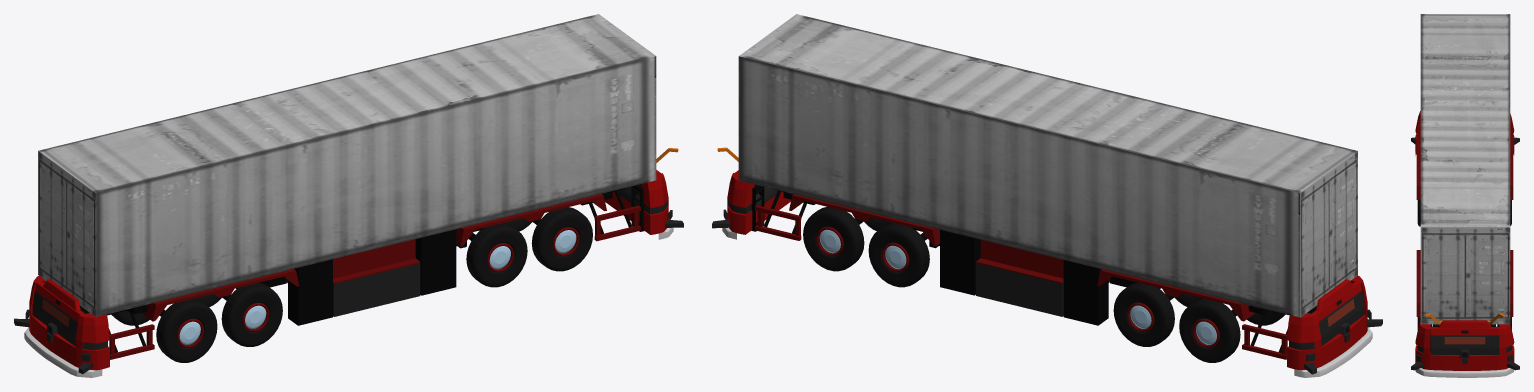
File: sm_aiv_new_full.fbx
The picture shows the model from 3 angles, left to right: view 1: azimuth 30°, elevation 25°; view 2: azimuth 150°, elevation 25°; view 3: azimuth 270°, elevation 25°; orthographic projection. The views are drawn at different scales.
Parts seen in each view (by area): view 1: sm_aiv_new_full; view 2: sm_aiv_new_full; view 3: sm_aiv_new_full.
Boxes of the visible parts, bbox=[...] form: sm_aiv_new_full: bbox=[14, 14, 683, 377]; sm_aiv_new_full: bbox=[712, 14, 1382, 377]; sm_aiv_new_full: bbox=[1411, 14, 1519, 377].
Bounding box in the file's own units: 14.87 × 4.49 × 2.96.
